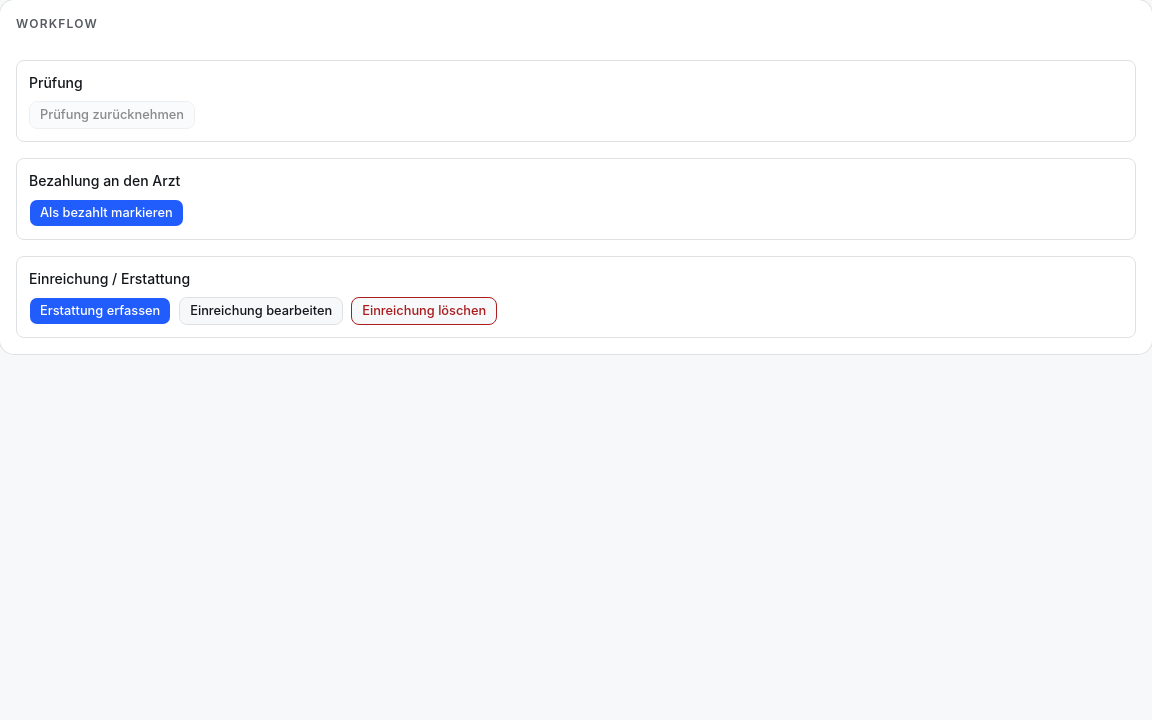
Test: InvoiceStatusFlow — Einreichung / Erstattung track › opens the refund form (category mode) from "Erstattung erfassen"
This screenshot has width=1152, height=720.
Click the button "Erstattung erfassen" at (100, 311), box [29, 297, 171, 325]
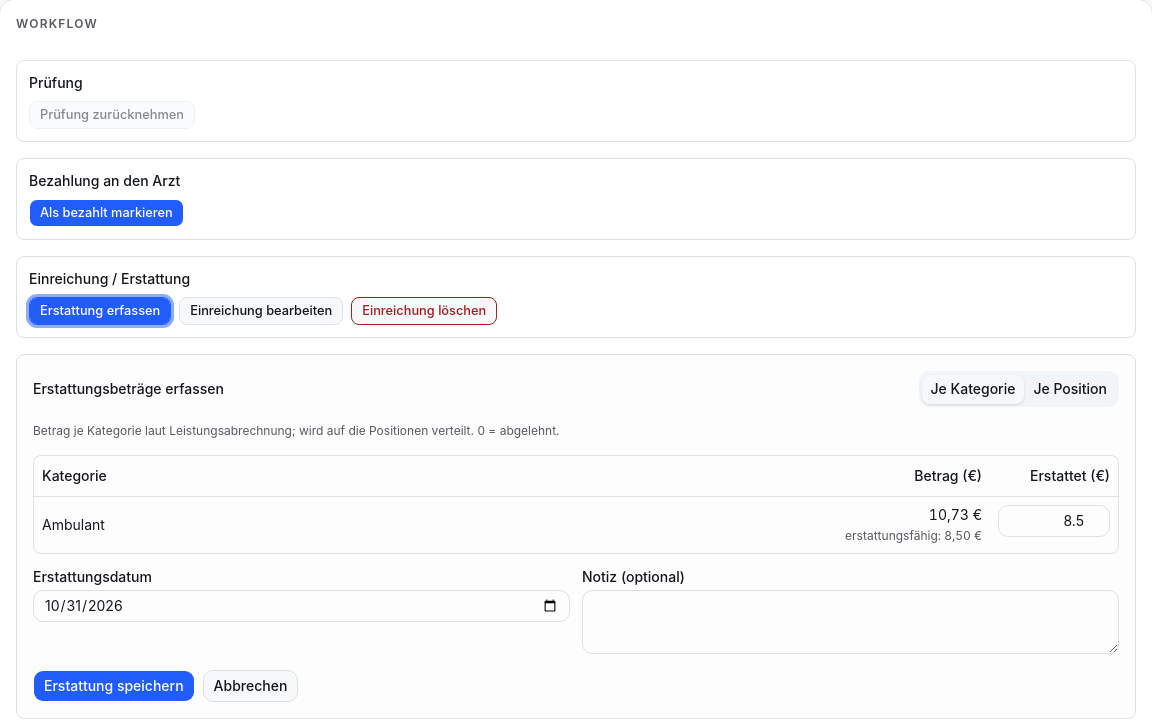
expect the text "Erstattungsbeträge erfassen" is shown: met, box [33, 379, 224, 399]
expect the tab "Je Kategorie" is shown: met, box [922, 374, 1024, 404]
expect the tab "Je Position" is shown: met, box [1024, 374, 1116, 404]
